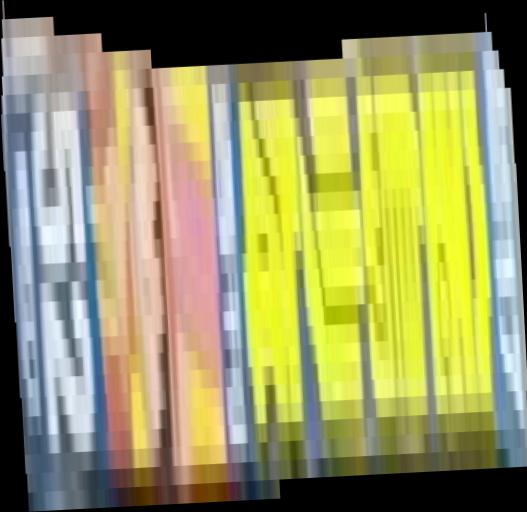flat: (1, 1, 527, 512)
